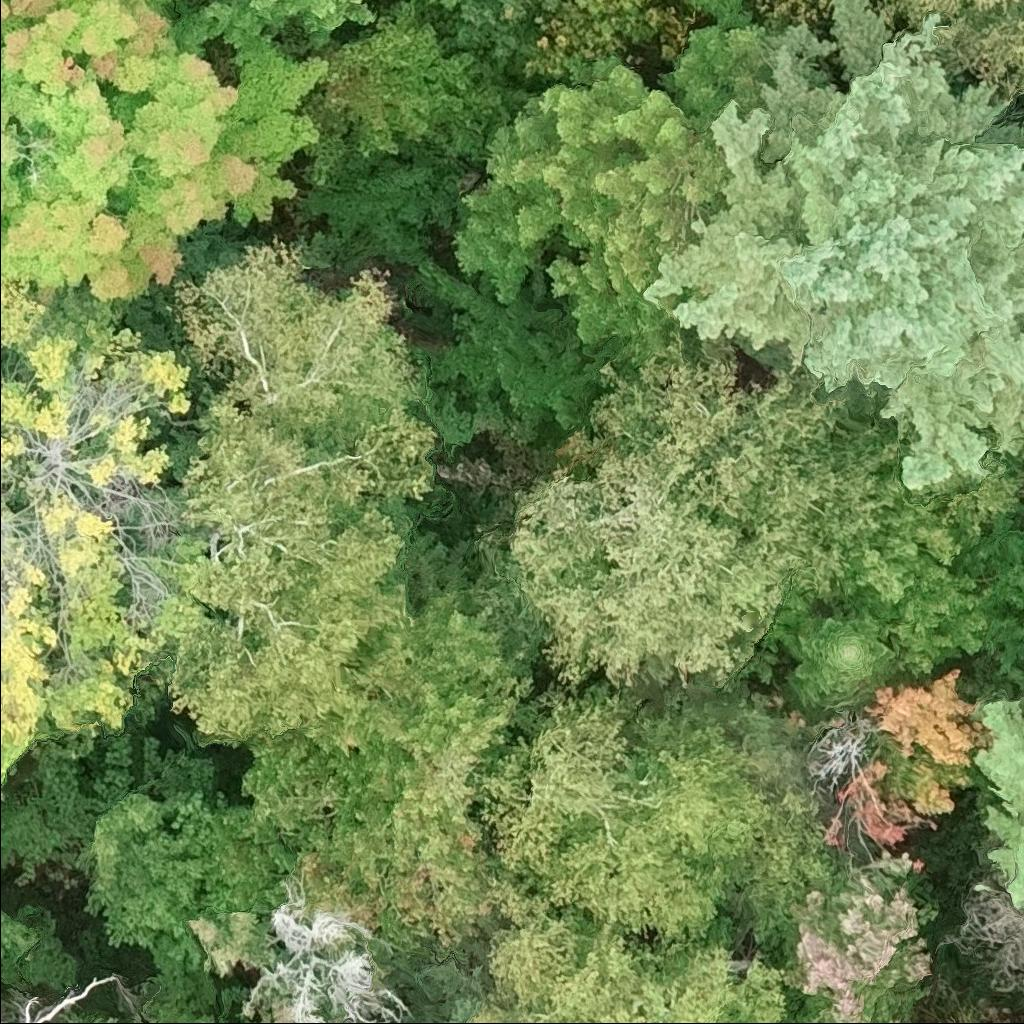crown: (637, 0, 1023, 491), (503, 325, 913, 689), (160, 236, 445, 740), (208, 539, 542, 951), (0, 0, 338, 311), (476, 675, 838, 941), (451, 52, 727, 347), (0, 428, 222, 783), (305, 0, 539, 185), (468, 892, 788, 1023), (0, 291, 193, 484), (837, 488, 1015, 677), (760, 850, 941, 1023), (826, 668, 988, 847), (172, 0, 378, 82), (654, 0, 771, 135), (877, 0, 1023, 96), (777, 598, 899, 710), (971, 689, 1023, 914), (936, 871, 1023, 996), (438, 0, 565, 72), (0, 901, 87, 992), (537, 0, 667, 60), (398, 957, 488, 1023), (23, 971, 119, 1023), (93, 992, 225, 1023), (809, 735, 872, 799), (0, 0, 70, 28), (933, 1004, 1015, 1023), (0, 830, 17, 876), (419, 0, 464, 17), (230, 1019, 253, 1023), (0, 1003, 4, 1023)
